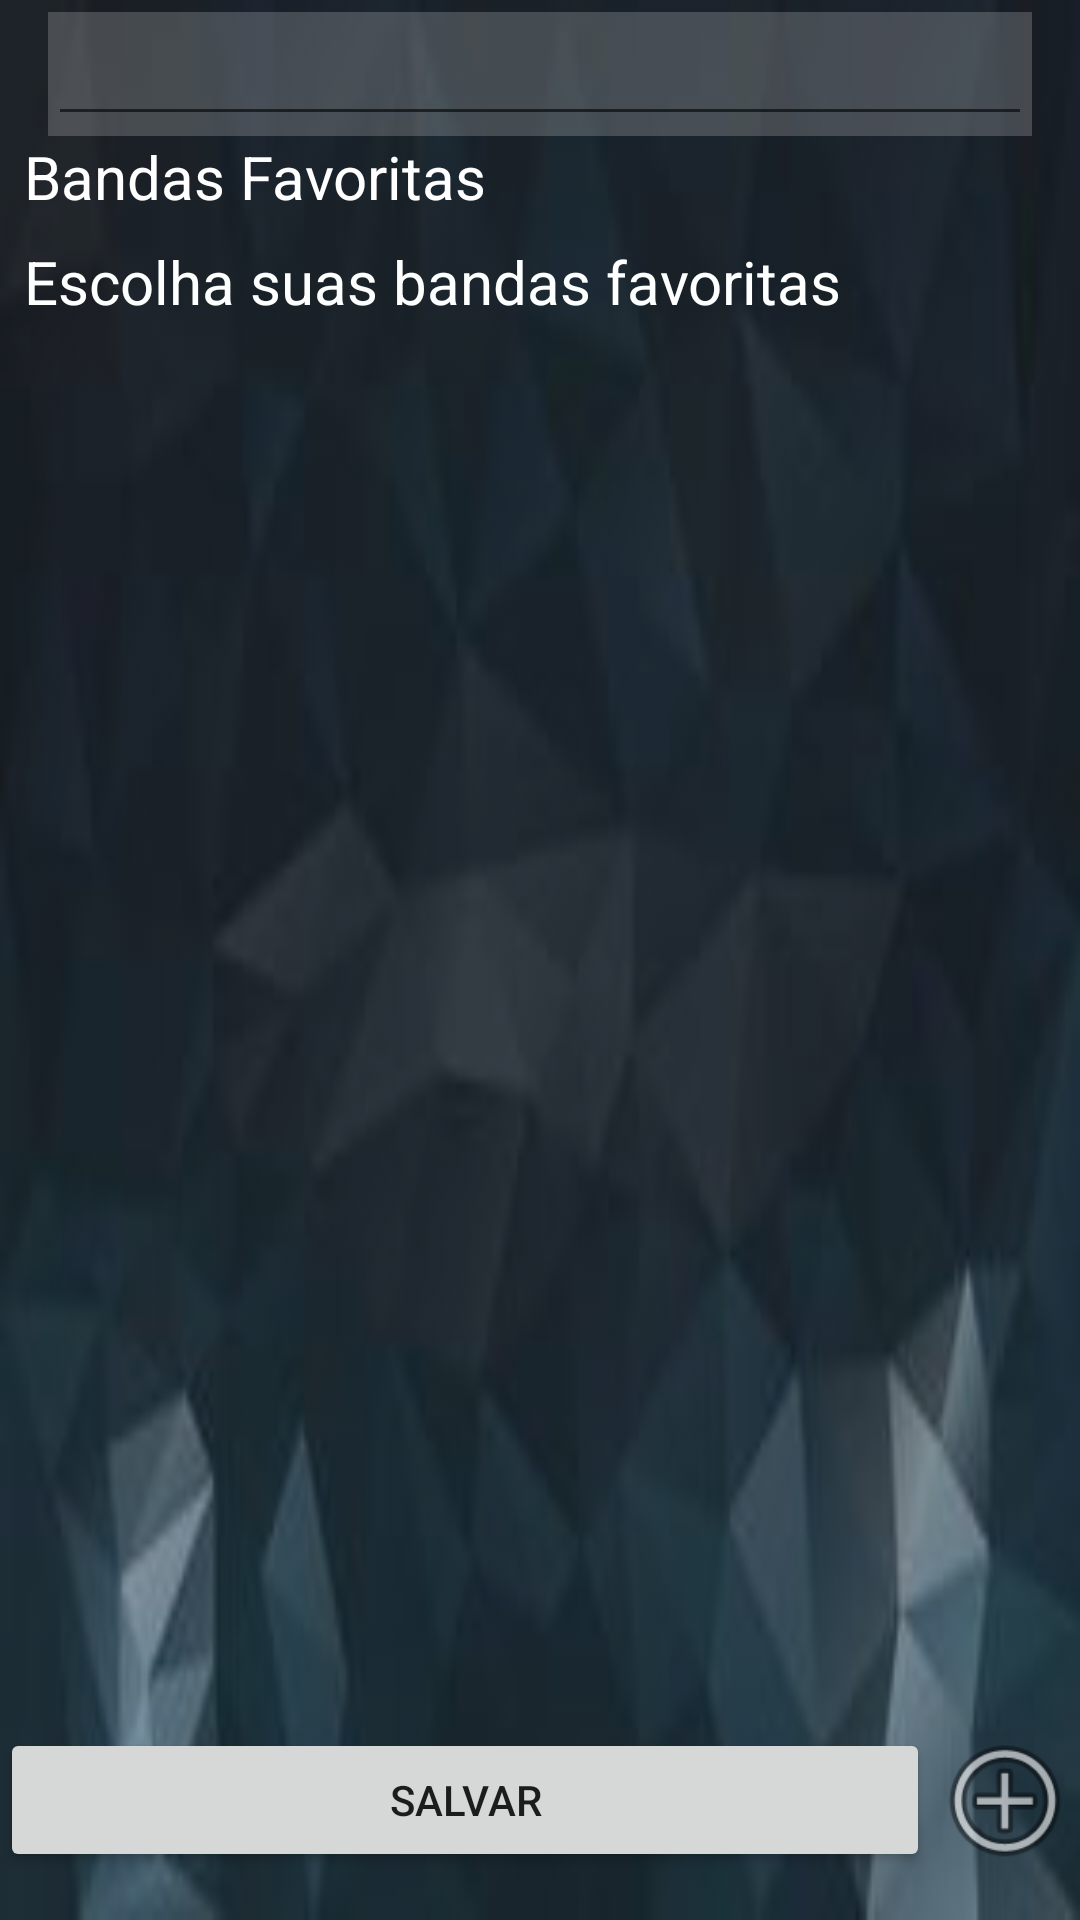

Named icons in this screenshot (1080px x 1920px) and their centers, [x,y]:
add: [1005,1800]
